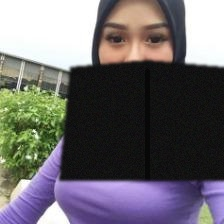Cadar_Niqab: (58, 0, 224, 180)
